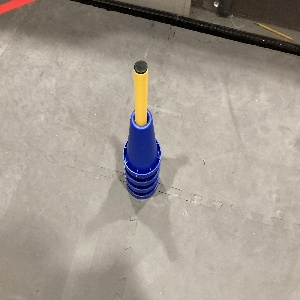Blue_4: (121, 108, 162, 202)
